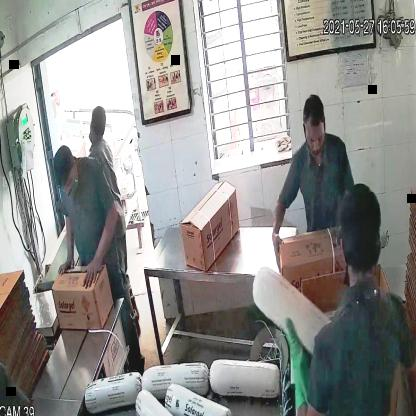no_goggles: (301, 124, 330, 152)
